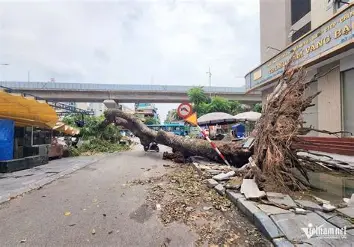ROAD_OBSTACLE: (4, 39, 350, 233)
